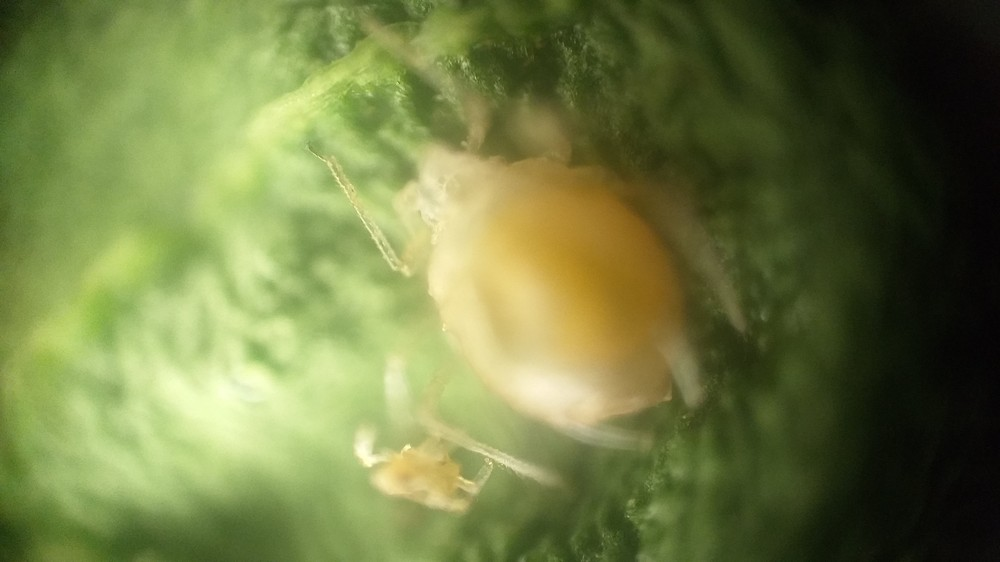Pulgon: (300, 39, 764, 475)
